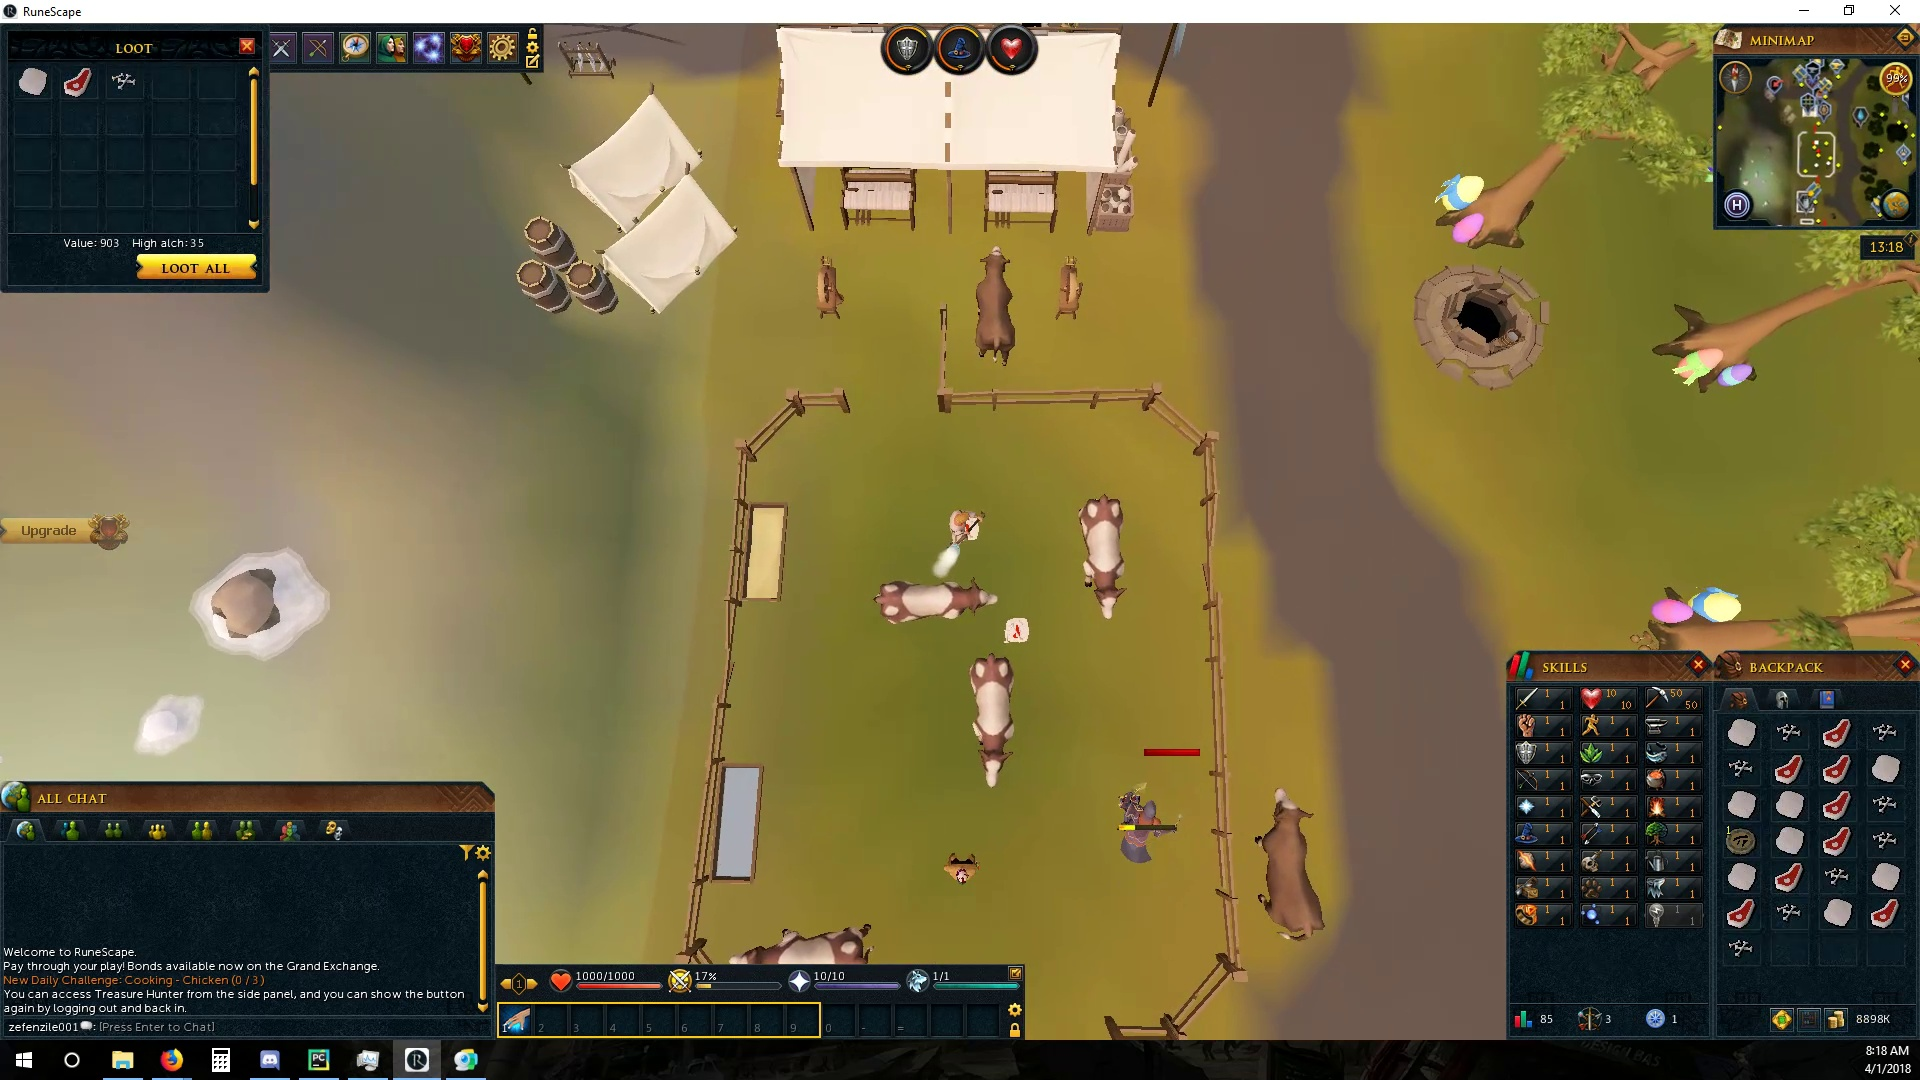cow: (1254, 786, 1329, 944), (967, 650, 1025, 789), (967, 243, 1023, 369), (1075, 492, 1129, 622), (872, 574, 1000, 628), (727, 924, 884, 964)
cow_drop: (996, 612, 1033, 647)
